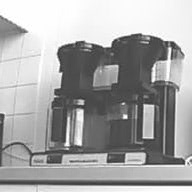empty coffee: (47, 95, 100, 151)
not empty coffee: (105, 92, 160, 149)
